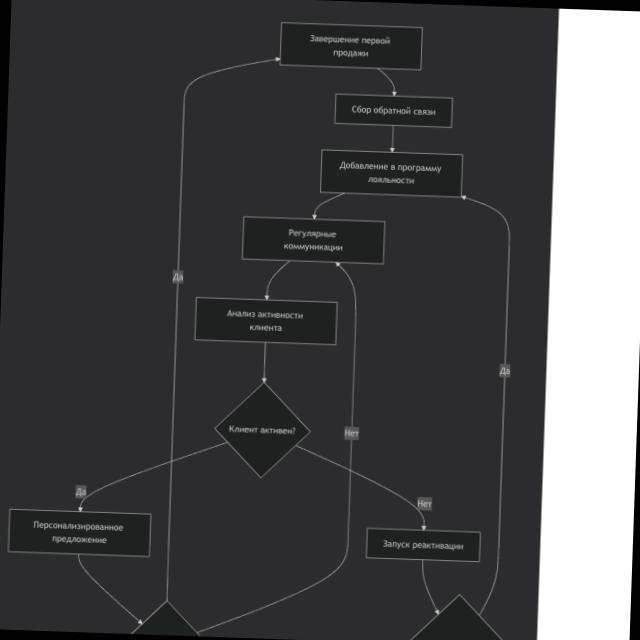arrow: (164, 52, 280, 605), (195, 257, 361, 637), (445, 193, 514, 617), (76, 436, 228, 516), (291, 444, 429, 529), (74, 554, 145, 624), (418, 560, 441, 615), (265, 259, 291, 300), (312, 191, 346, 220), (376, 69, 398, 96), (261, 341, 269, 383), (389, 125, 396, 153)
diamond: (214, 381, 311, 479)
rectangle: (194, 297, 338, 346), (8, 509, 151, 557), (319, 150, 462, 198), (243, 216, 385, 264), (279, 23, 422, 70), (334, 93, 453, 128), (366, 528, 481, 563)
text_region: (417, 498, 432, 509), (345, 428, 359, 438), (499, 366, 510, 376), (173, 272, 183, 283), (76, 488, 86, 497)
